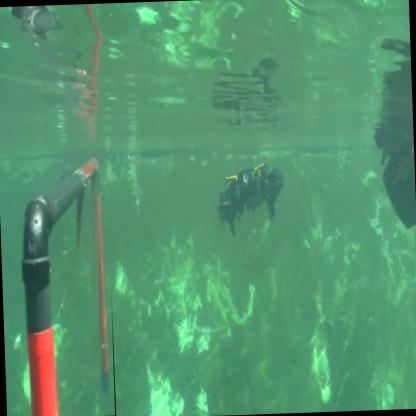gate: (17, 151, 119, 416)
